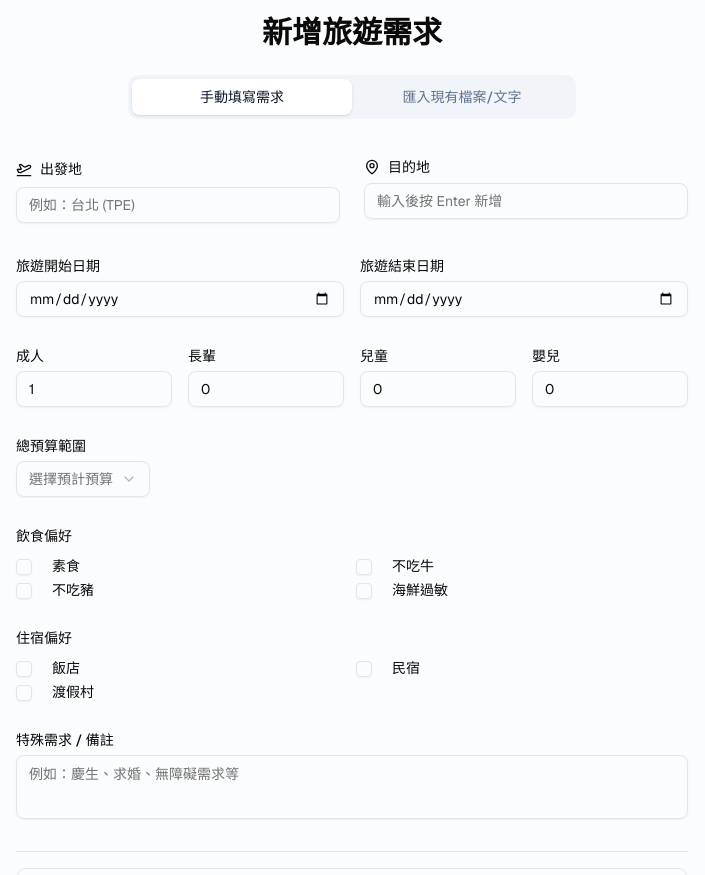
RequirementFormPage with Tabs › can switch to import tab
Click the button "匯入現有檔案/文字": [462, 97] box [352,79,572,115]
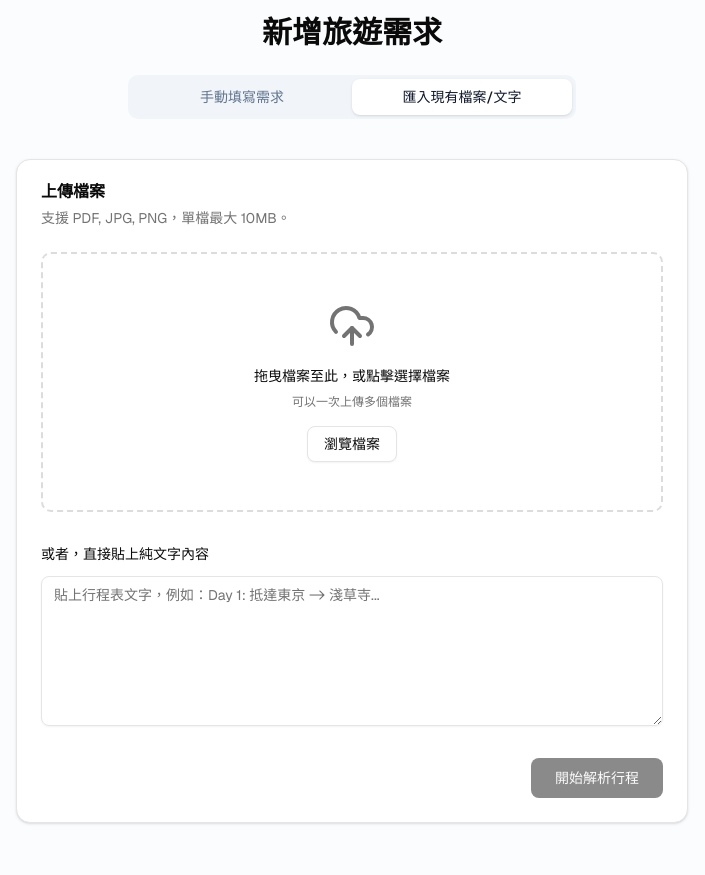
Expected: the text "上傳檔案" is shown, [41,181,105,202]
Expected: the heading "或者，直接貼上純文字內容" is shown, [41,545,209,563]
